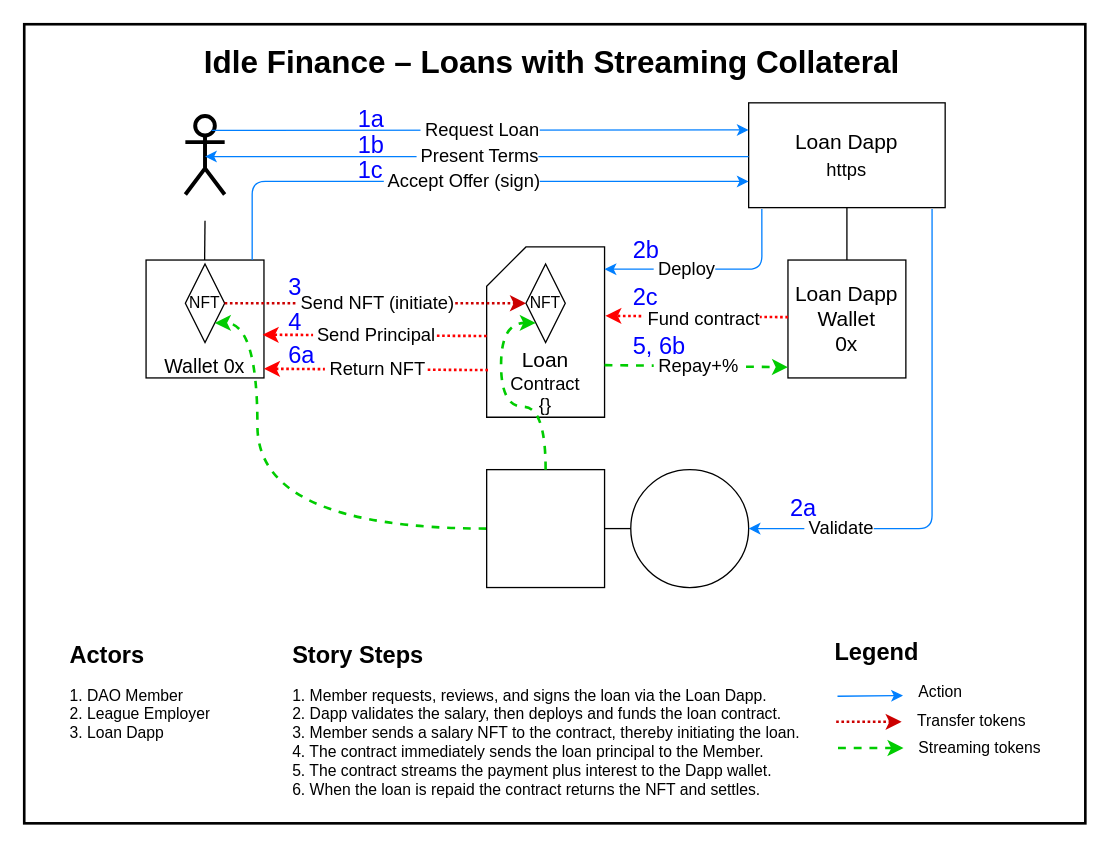
Image size: 1108x846. Some labels were removed from this diagram. The centre of each missing label's shape, as x and y in pixels:
"DAO League" belongs at point (689, 528).
"League Wallet 0x" belongs at point (545, 528).
"Member" belongs at point (204, 154).
